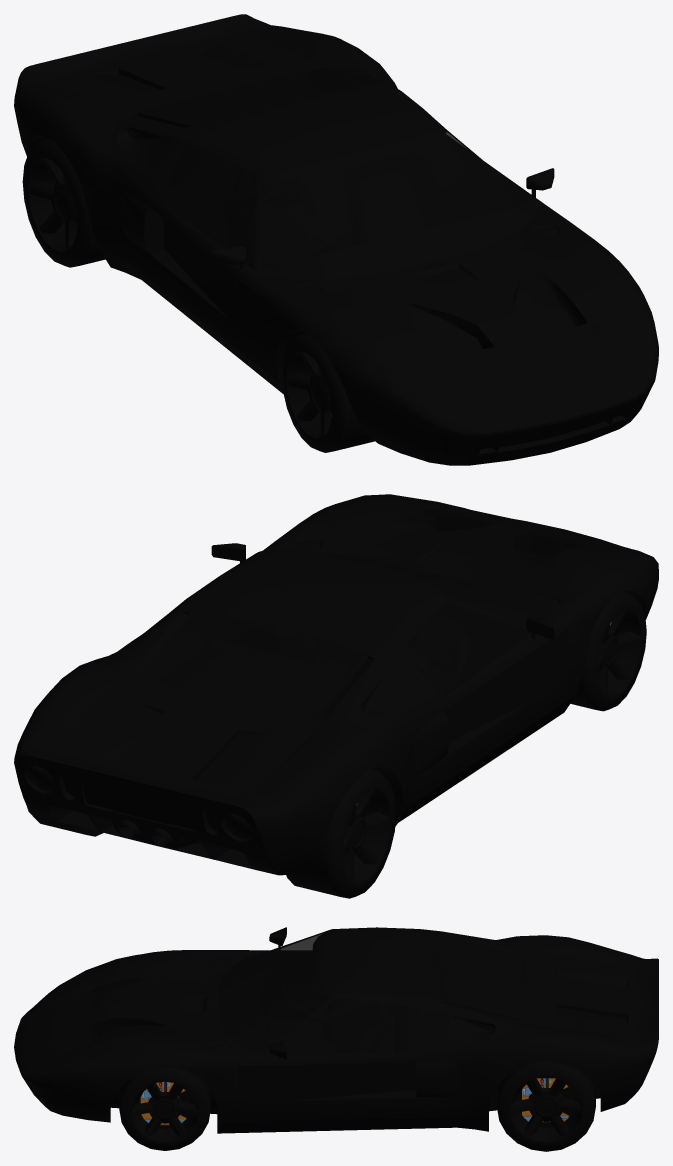
Rendered from FORD_GT.glb.
The picture shows the model from 3 angles, top to bottom: view 1: azimuth 30°, elevation 25°; view 2: azimuth 150°, elevation 25°; view 3: azimuth 270°, elevation 25°; orthographic projection. The views are drawn at different scales.
Parts seen in each view (by area): view 1: tree_node_141d48, WHEEL_STATIC_0x142138, WHEEL_STATIC_0x1421f0, HELMET_0x142218; view 2: tree_node_141d48, WHEEL_STATIC_0x142138, WHEEL_STATIC_0x1421f0, BRAKE_LIGHTS_OFF_0x142268; view 3: tree_node_141d48, WHEEL_STATIC_0x141fc8, WHEEL_STATIC_0x142080, WHEEL_BACK_RIGHT_0x141f68, WHEEL_FRONT_RIGHT_0x142020.
Part boxes in pixels (x1,y1,x2,y2): tree_node_141d48: (14, 14, 658, 465); WHEEL_STATIC_0x142138: (22, 138, 105, 267); WHEEL_STATIC_0x1421f0: (281, 333, 374, 452); HELMET_0x142218: (250, 174, 300, 207); tree_node_141d48: (14, 494, 658, 875); WHEEL_STATIC_0x142138: (286, 769, 396, 898); WHEEL_STATIC_0x1421f0: (570, 592, 646, 711); BRAKE_LIGHTS_OFF_0x142268: (27, 765, 252, 838); tree_node_141d48: (14, 927, 658, 1133); WHEEL_STATIC_0x141fc8: (497, 1061, 595, 1151); WHEEL_STATIC_0x142080: (119, 1068, 210, 1150); WHEEL_BACK_RIGHT_0x141f68: (522, 1078, 570, 1122); WHEEL_FRONT_RIGHT_0x142020: (140, 1081, 186, 1125).
Size of the model in its own units: 2.12 by 1.11 by 4.62.
3 materials, 1 textured.
